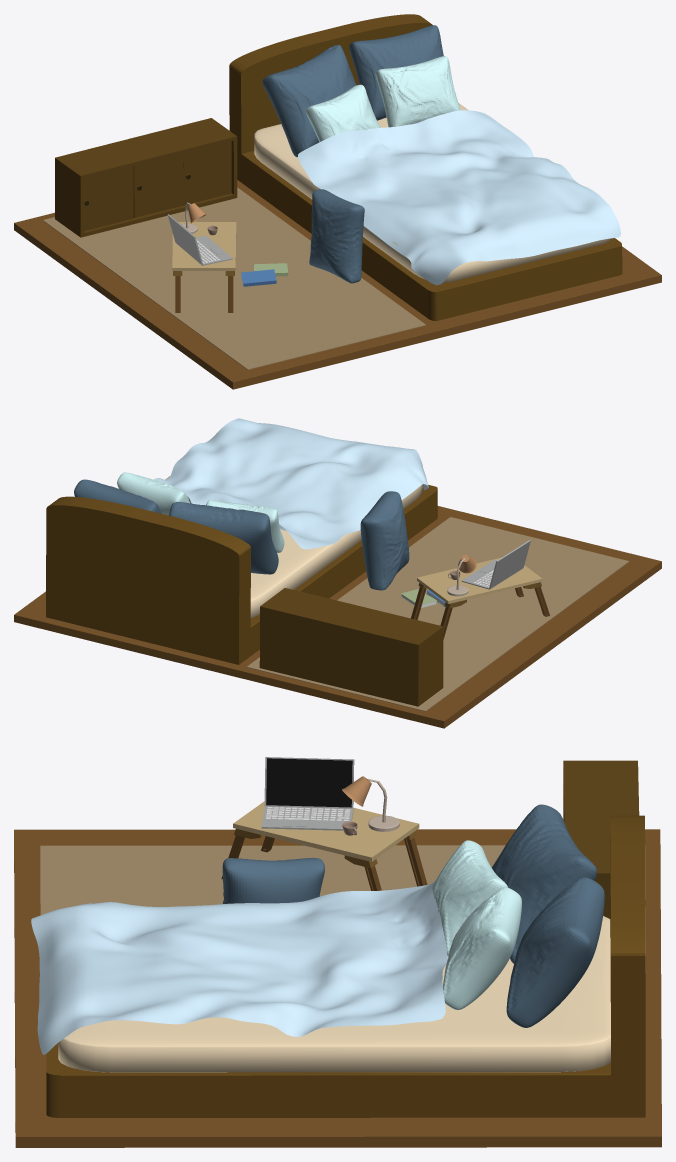
3 renders of one model, top to bottom at view 1: azimuth 30°, elevation 25°; view 2: azimuth 150°, elevation 25°; view 3: azimuth 270°, elevation 25°, orthographic. The views are drawn at different scales.
Visible parts, largest first — view 1: blanket, carpet, bed, floor1, boxboard, p3, futon, p2, p5, p4, p1, table (+1 smaller); view 2: bed, blanket, carpet, boxboard, floor1, p5, futon, p3, table, p2, laptop, p4 (+2 smaller); view 3: blanket, bed, floor1, futon, carpet, p4, p3, boxboard, laptop, p2, table, p5 (+2 smaller).
Part boxes in pixels (x1,y1,x2,y2): blanket: [298, 110, 620, 285]; carpet: [42, 187, 425, 369]; bed: [229, 14, 622, 320]; floor1: [14, 180, 661, 389]; boxboard: [55, 118, 237, 237]; p3: [262, 45, 356, 157]; futon: [254, 103, 611, 282]; p2: [375, 56, 460, 127]; p5: [309, 189, 364, 283]; p4: [349, 25, 443, 120]; p1: [305, 84, 380, 142]; table: [172, 222, 236, 312]; bed: [46, 484, 437, 664]; blanket: [154, 418, 428, 549]; carpet: [247, 517, 629, 711]; boxboard: [259, 588, 443, 706]; floor1: [14, 506, 661, 728]; p5: [360, 491, 409, 590]; futon: [165, 476, 422, 617]; p3: [169, 502, 278, 574]; table: [411, 557, 549, 639]; p2: [117, 472, 191, 515]; laptop: [461, 540, 530, 589]; p4: [74, 479, 161, 513]; blanket: [31, 881, 447, 1054]; bed: [46, 815, 645, 1117]; floor1: [14, 829, 661, 1147]; futon: [58, 916, 610, 1072]; carpet: [40, 845, 646, 973]; p4: [506, 877, 604, 1027]; p3: [492, 804, 596, 963]; boxboard: [563, 760, 639, 918]; laptop: [261, 757, 354, 830]; p2: [443, 887, 521, 1009]; table: [221, 801, 427, 890]; p5: [222, 857, 324, 903].
Size of the model in its own units: 5.24 by 1.55 by 4.61.
